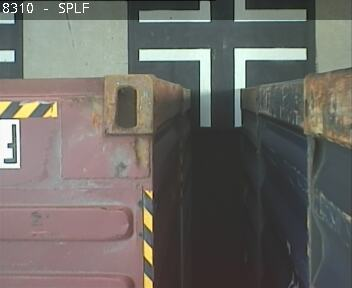groundmarker_1: (138, 48, 306, 125)
